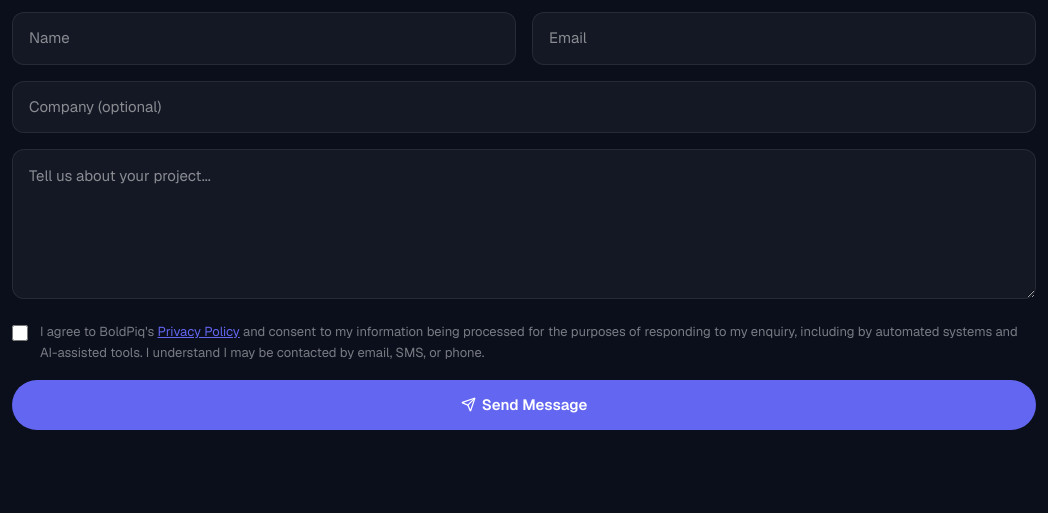
Scenario: ContactForm › validation — name › shows error when name is 1 character
The image size is (1048, 513).
Type "A" into the field named "Your name".
click(264, 38); type("A")  # box [12,12,516,64]
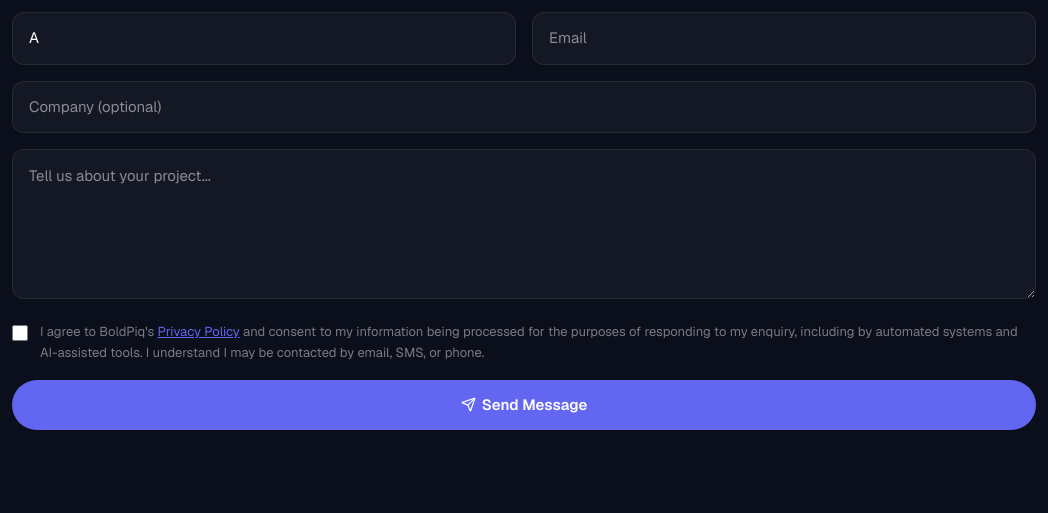
Submit the form named "send message"
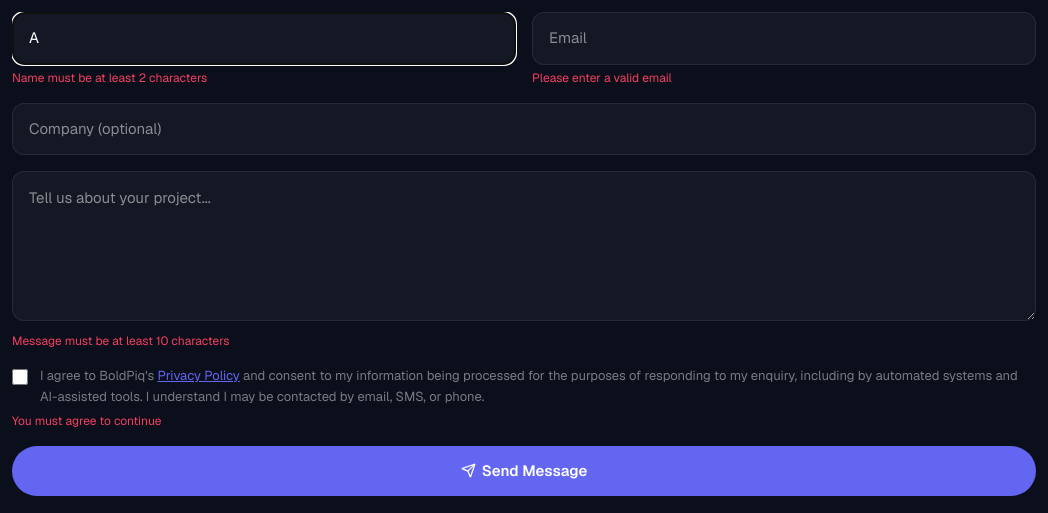
Result: the text "Name must be at least 2 characters" is shown at [12,70,207,86]
